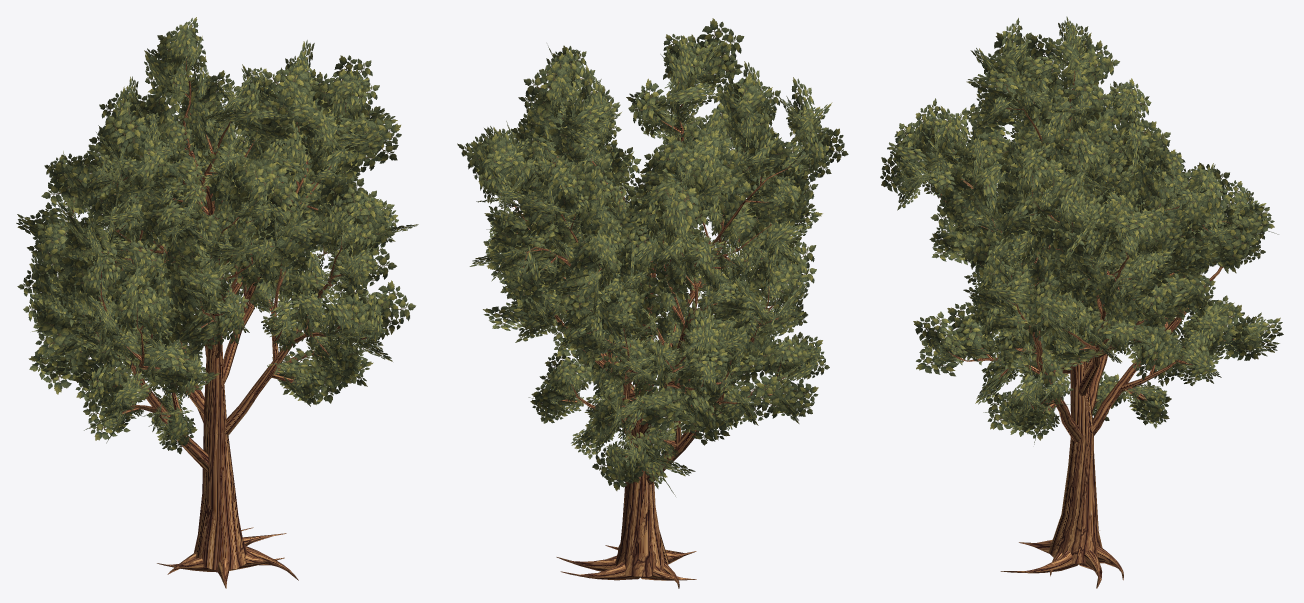
Rendered from tree7.glb.
The picture shows the model from 3 angles, left to right: view 1: azimuth 30°, elevation 25°; view 2: azimuth 150°, elevation 25°; view 3: azimuth 270°, elevation 25°; orthographic projection. The views are drawn at different scales.
Parts seen in each view (by area): view 1: tree7_Medium, tree7_LowMesh; view 2: tree7_Medium, tree7_LowMesh; view 3: tree7_Medium, tree7_LowMesh.
Boxes of the visible parts, left/top/right/bottom form: tree7_Medium: left=16, top=17, right=418, bottom=588; tree7_LowMesh: left=26, top=25, right=398, bottom=587; tree7_Medium: left=457, top=18, right=848, bottom=588; tree7_LowMesh: left=475, top=39, right=824, bottom=587; tree7_Medium: left=880, top=16, right=1283, bottom=588; tree7_LowMesh: left=895, top=27, right=1264, bottom=587.
Bounding box in the file's own units: 31.79 × 47.52 × 33.57.
Materials: 4 (4 with a texture image).
